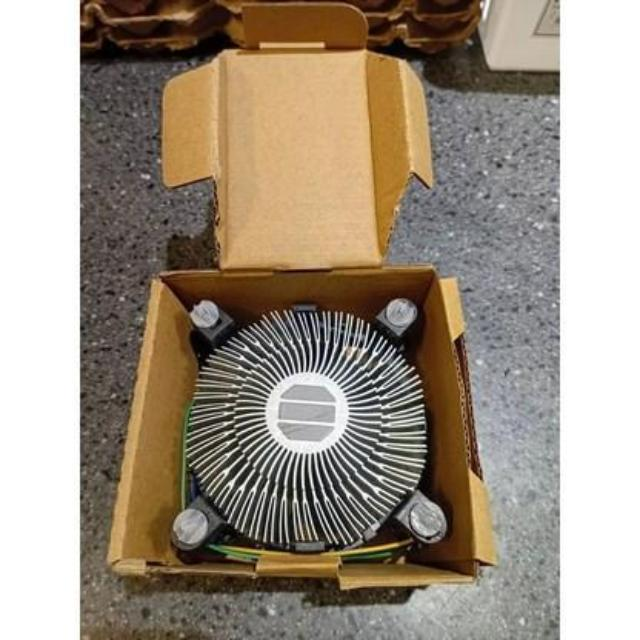CPU_Fan: (172, 294, 450, 566)
